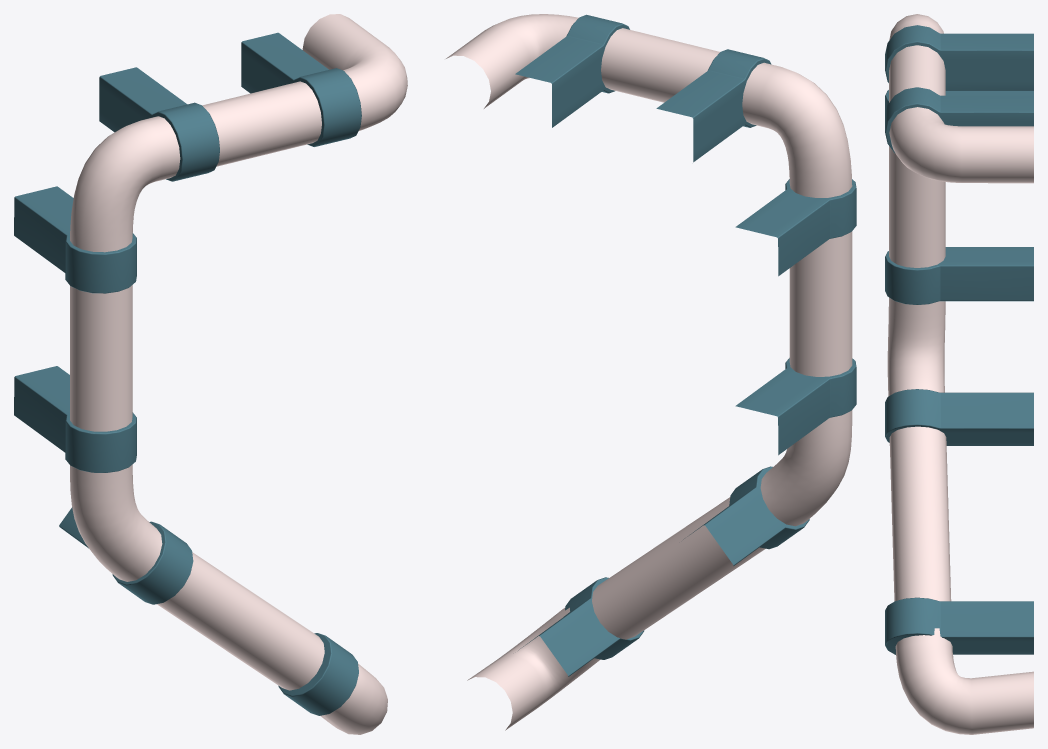
File: City_13_Pipe_1.glb
3 renders of one model, left to right at view 1: azimuth 30°, elevation 25°; view 2: azimuth 150°, elevation 25°; view 3: azimuth 270°, elevation 25°, orthographic. The views are drawn at different scales.
Parts seen in each view (by area): view 1: City_13_Pipe_1; view 2: City_13_Pipe_1; view 3: City_13_Pipe_1.
Part boxes in pixels (x1,y1,x2,y2): City_13_Pipe_1: (14, 14, 407, 734); City_13_Pipe_1: (446, 14, 856, 730); City_13_Pipe_1: (885, 14, 1033, 734).
Size of the model in its own units: 2.39 by 4.44 by 0.9758.
1 material, 1 textured.
